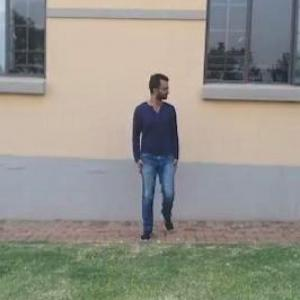follow: (133, 71, 182, 238)
